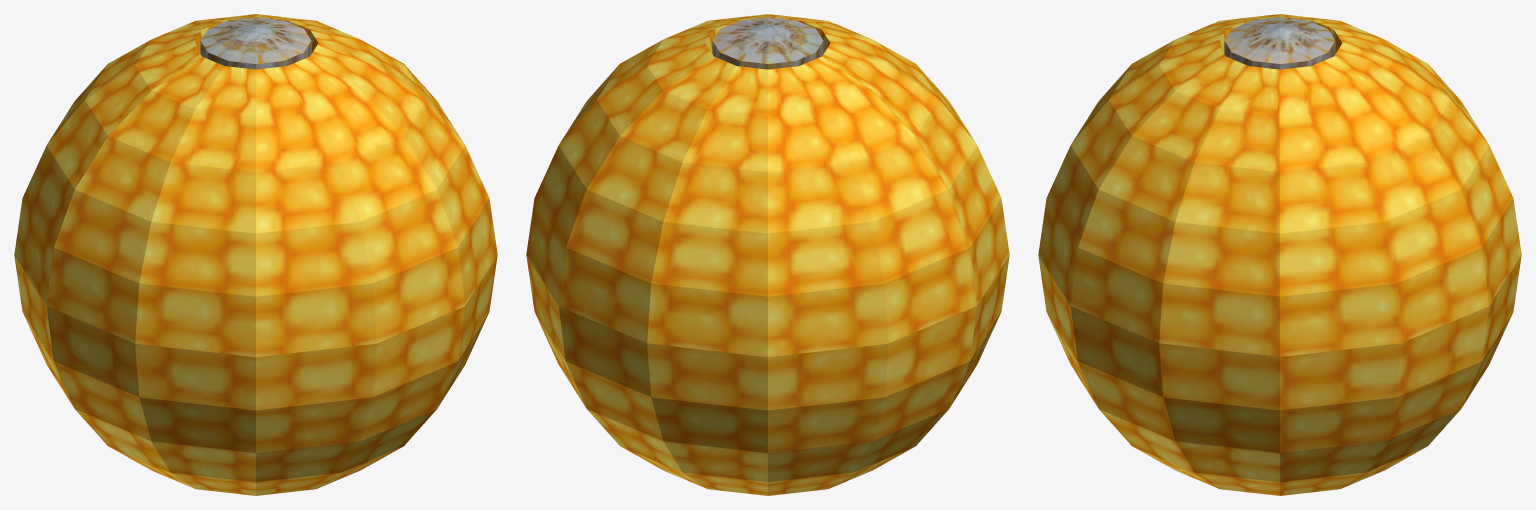
Rendered from cornball.glb.
The picture shows the model from 3 angles, left to right: view 1: azimuth 30°, elevation 25°; view 2: azimuth 150°, elevation 25°; view 3: azimuth 270°, elevation 25°; orthographic projection.
Visible parts, largest first — view 1: ball; view 2: ball; view 3: ball.
Boxes of the visible parts, x1,y1,x2,y2 form: ball: (14, 14, 497, 495); ball: (526, 14, 1009, 495); ball: (1038, 14, 1521, 495).
Size of the model in its own units: 1.65 by 1.71 by 1.65.
1 material, 1 textured.
